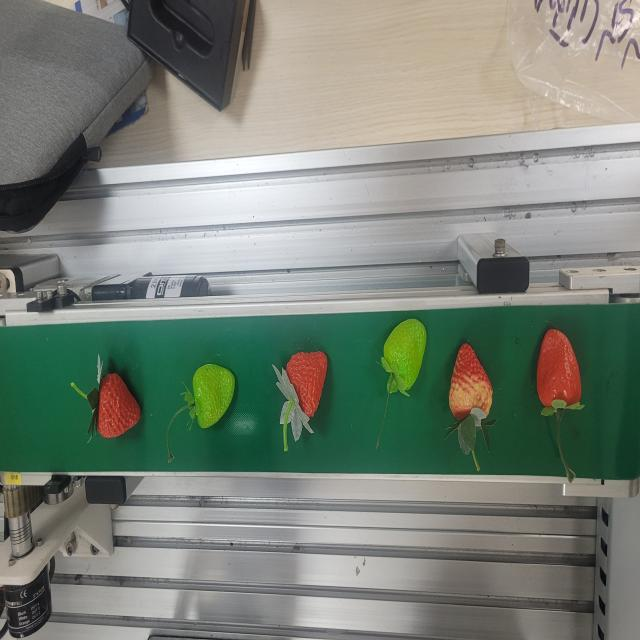Moldy Strawberry: (446, 343, 498, 426)
Small Ripe Strawberry: (275, 344, 331, 438), (79, 366, 144, 445), (532, 331, 586, 422)
Small Unripe Strawberry: (380, 314, 431, 396), (188, 357, 241, 433)
